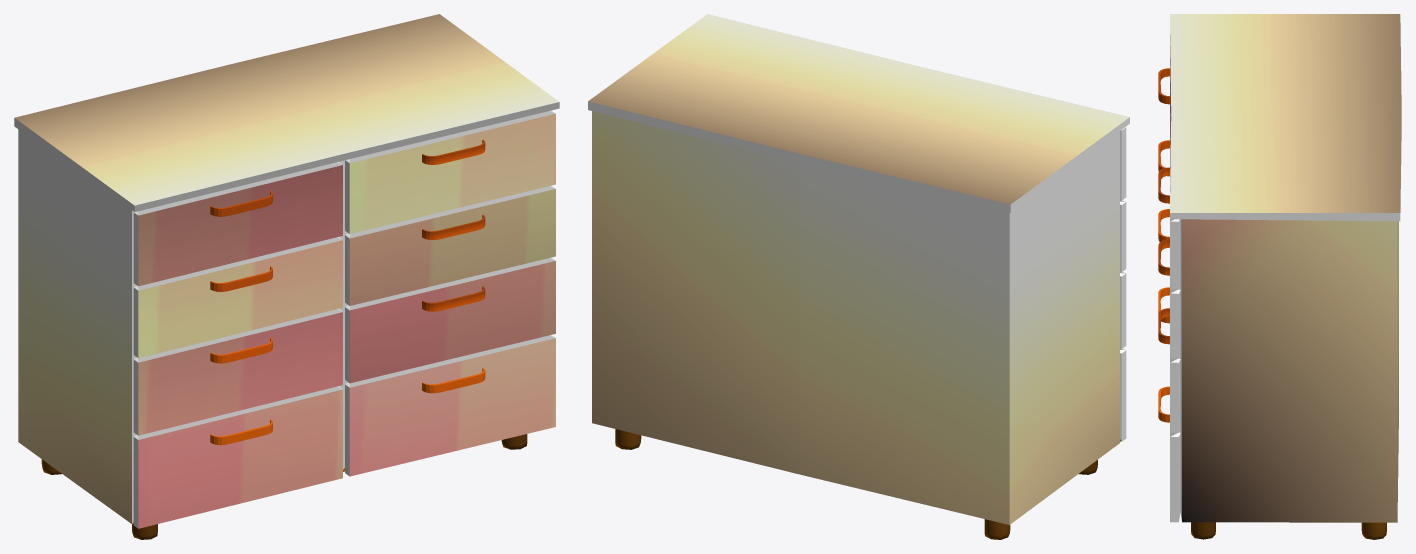
File: Cajon3.fbx
3 views of the same model, side by side, from view 1: azimuth 30°, elevation 25°; view 2: azimuth 150°, elevation 25°; view 3: azimuth 270°, elevation 25° (orthographic). The views are drawn at different scales.
Parts seen in each view (by area): view 1: Cajon3.001; view 2: Cajon3.001; view 3: Cajon3.001.
Boxes of the visible parts, x1=… form: Cajon3.001: x1=14, y1=14, x2=559, y2=539; Cajon3.001: x1=588, y1=14, x2=1129, y2=539; Cajon3.001: x1=1158, y1=14, x2=1401, y2=539.
Size of the model in its own units: 8.27 by 6.5 by 4.28.
Materials: 1 (1 with a texture image).
